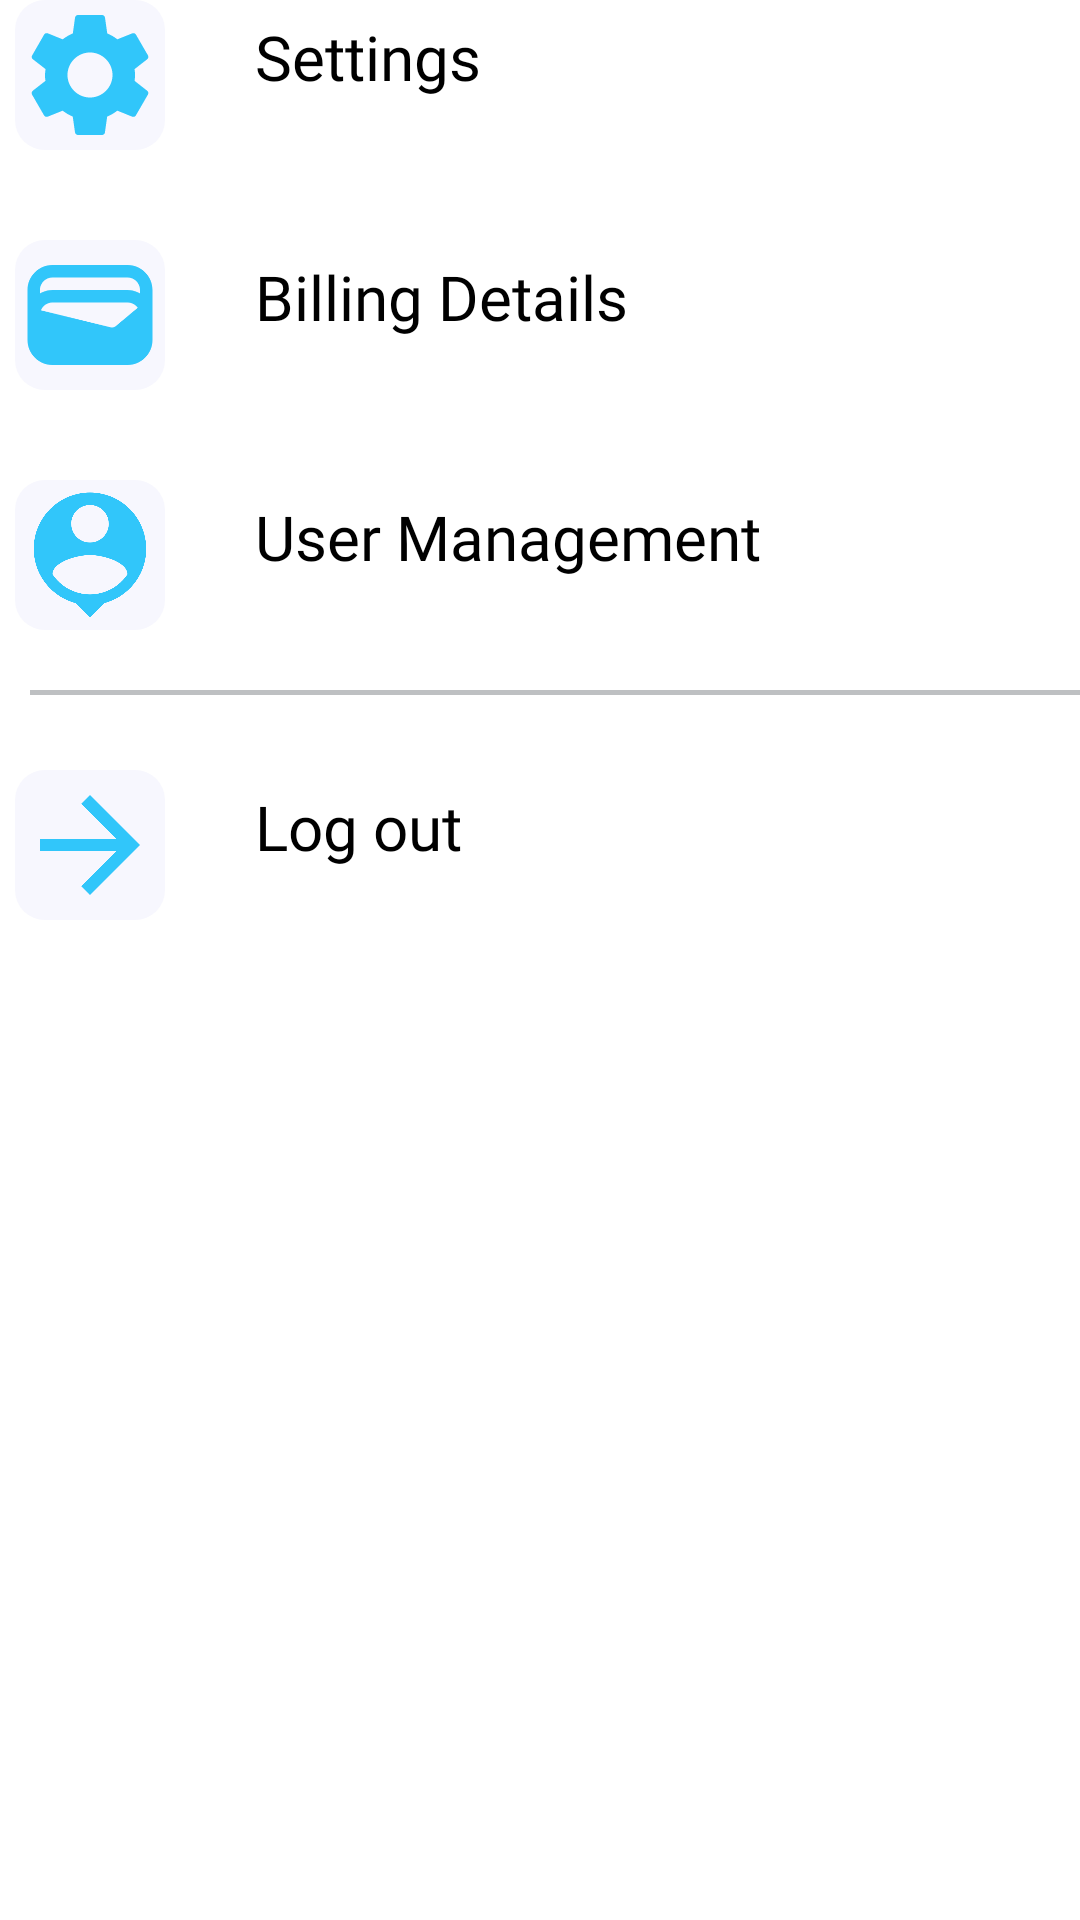

Where icons sit on this 1080*1920 app screen, as (x1, y1, x2, y2):
porfile pf: (34, 492, 146, 617)
profile wallet: (27, 265, 153, 365)
set click: (31, 15, 149, 135)
